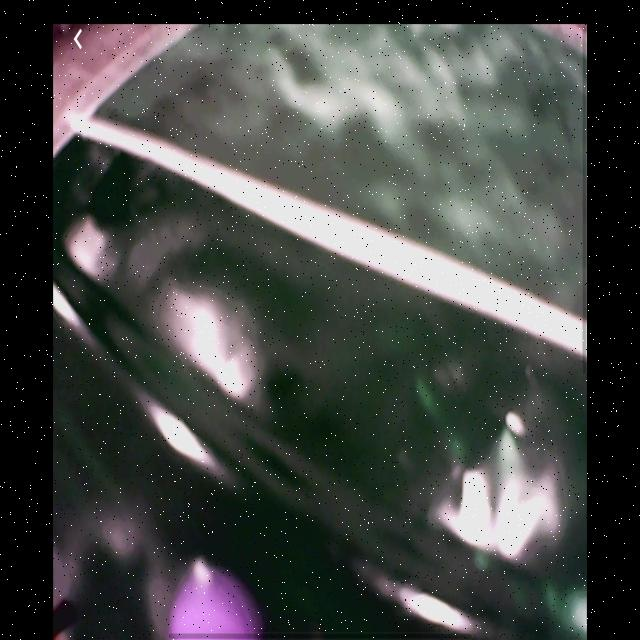ball: (167, 557, 265, 639)
